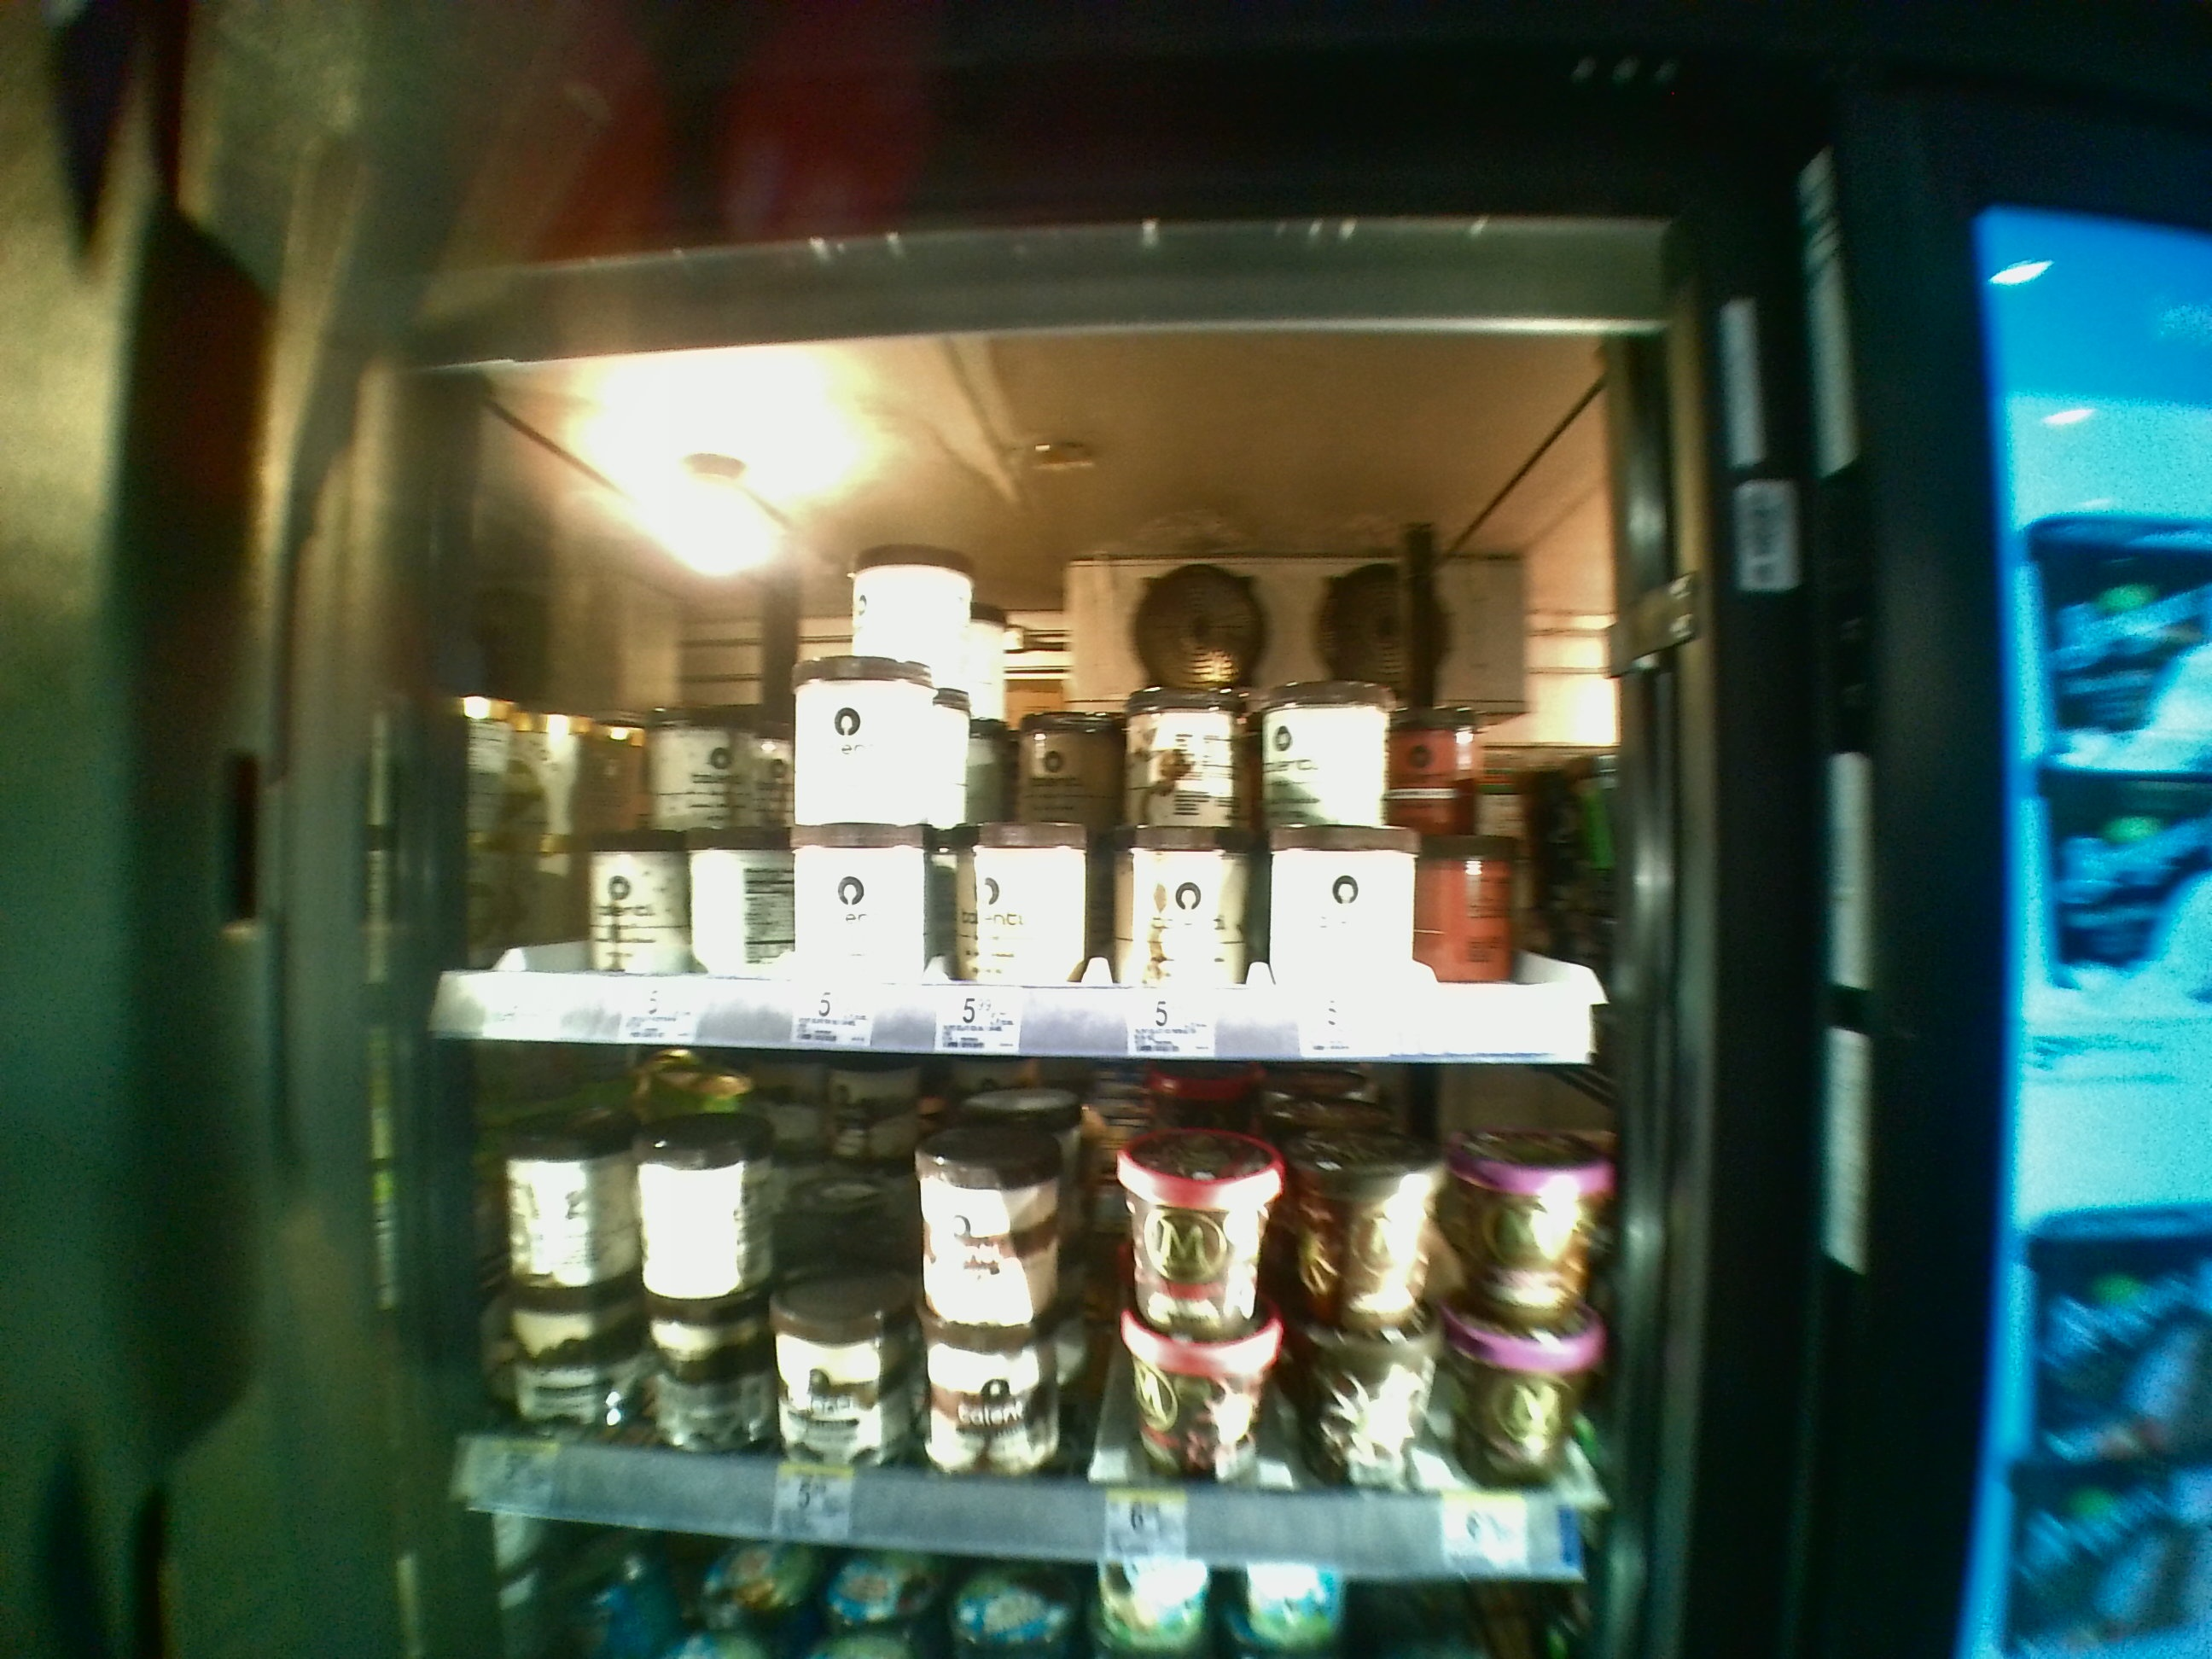shelf: (421, 345, 1630, 1040), (432, 1054, 1630, 1579)
